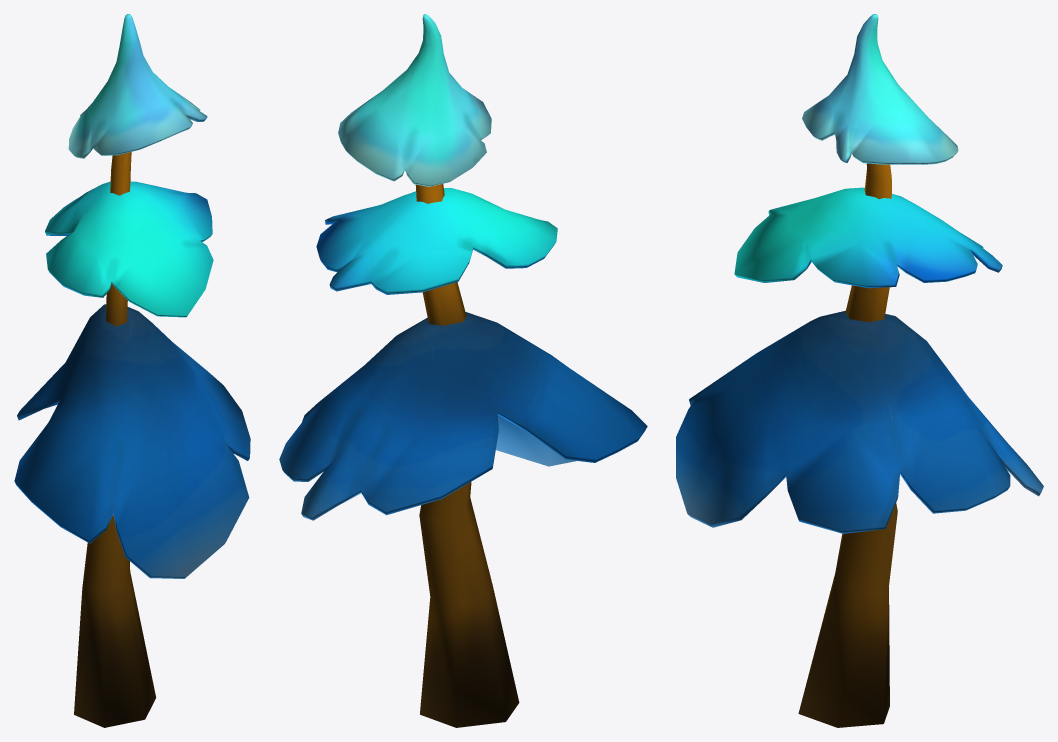
Rendered from TreeStyle2Blue_07.fbx.
The picture shows the model from 3 angles, left to right: view 1: azimuth 30°, elevation 25°; view 2: azimuth 150°, elevation 25°; view 3: azimuth 270°, elevation 25°; orthographic projection. The views are drawn at different scales.
Parts seen in each view (by area): view 1: TreeStyle2_07; view 2: TreeStyle2_07; view 3: TreeStyle2_07.
Boxes of the visible parts, left/top/right/bottom form: TreeStyle2_07: left=14, top=14, right=250, bottom=727; TreeStyle2_07: left=279, top=14, right=647, bottom=727; TreeStyle2_07: left=676, top=14, right=1043, bottom=727.
Bounding box in the file's own units: 444 × 1097 × 514.
